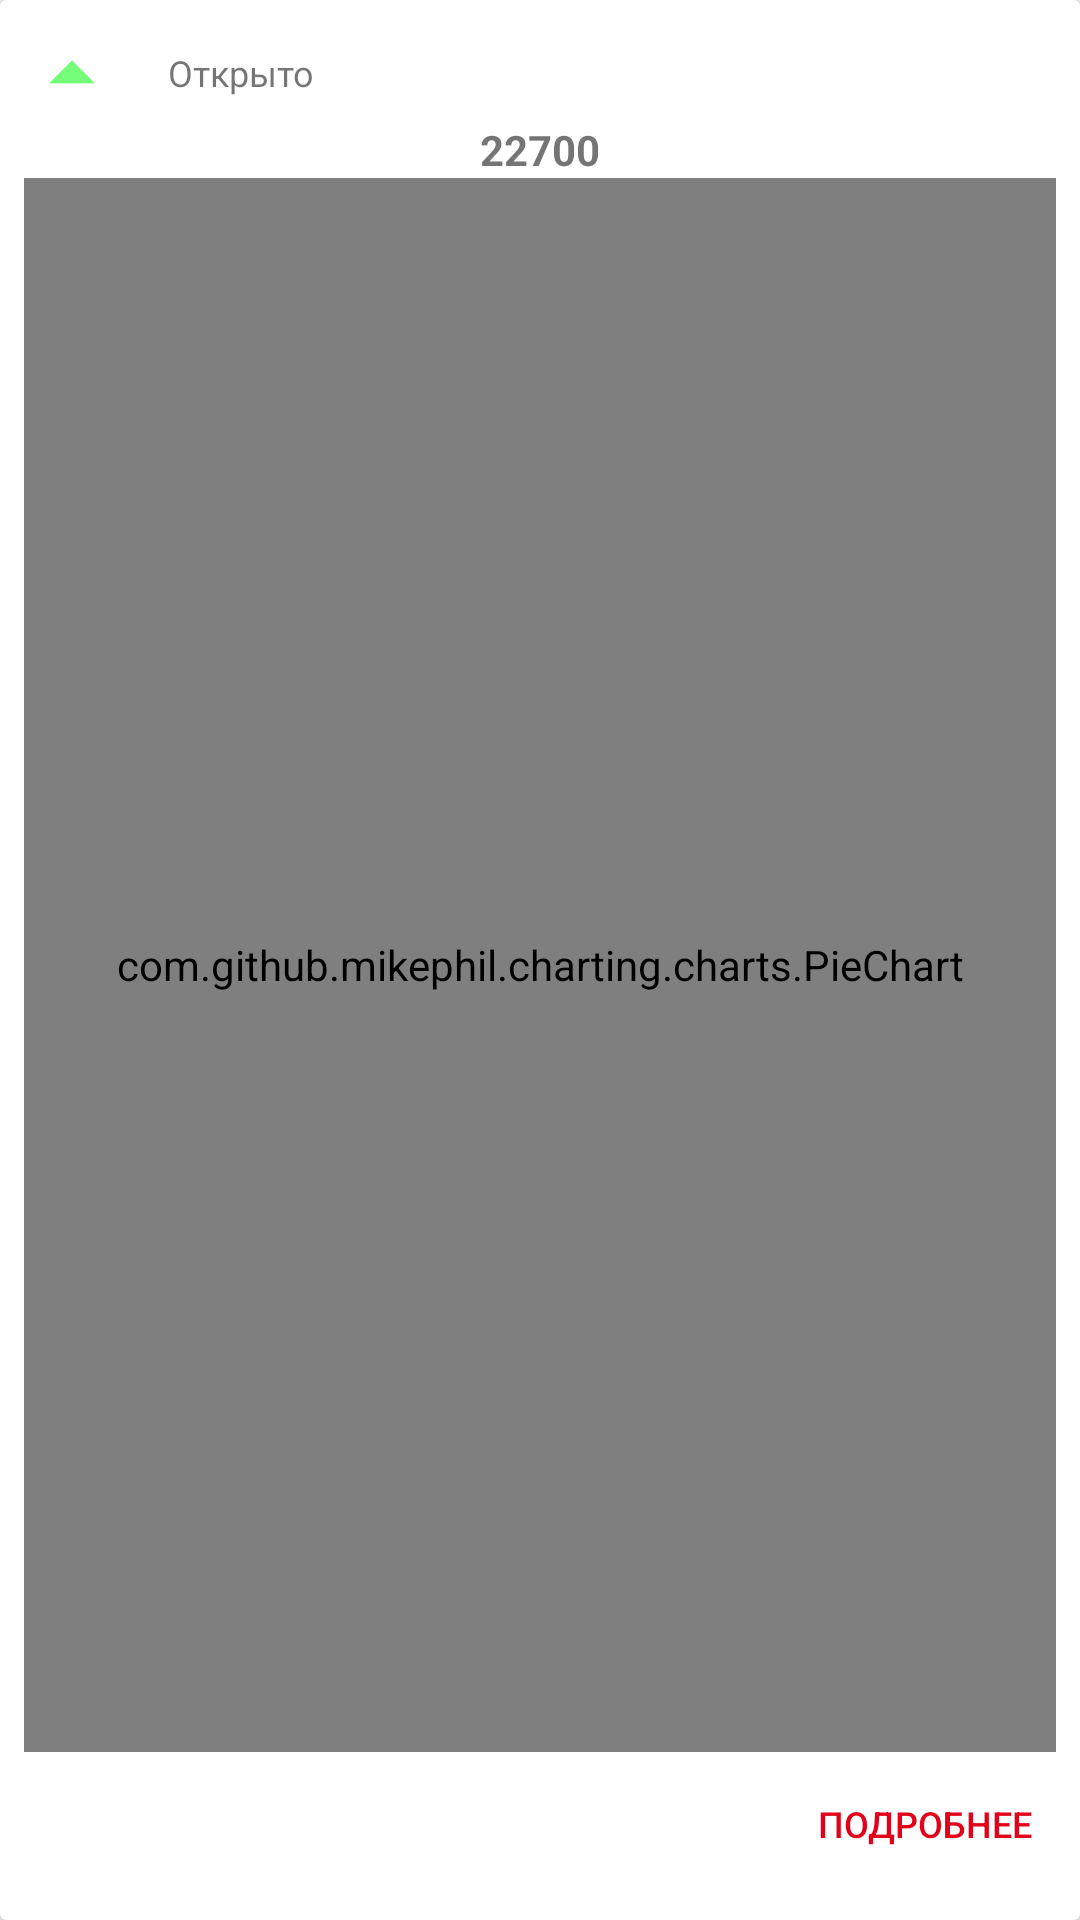

Where icons sit on this 1080px×1920px app screen, as (x1, y1, x2, y2):
arrow up: (49, 60, 95, 84)
